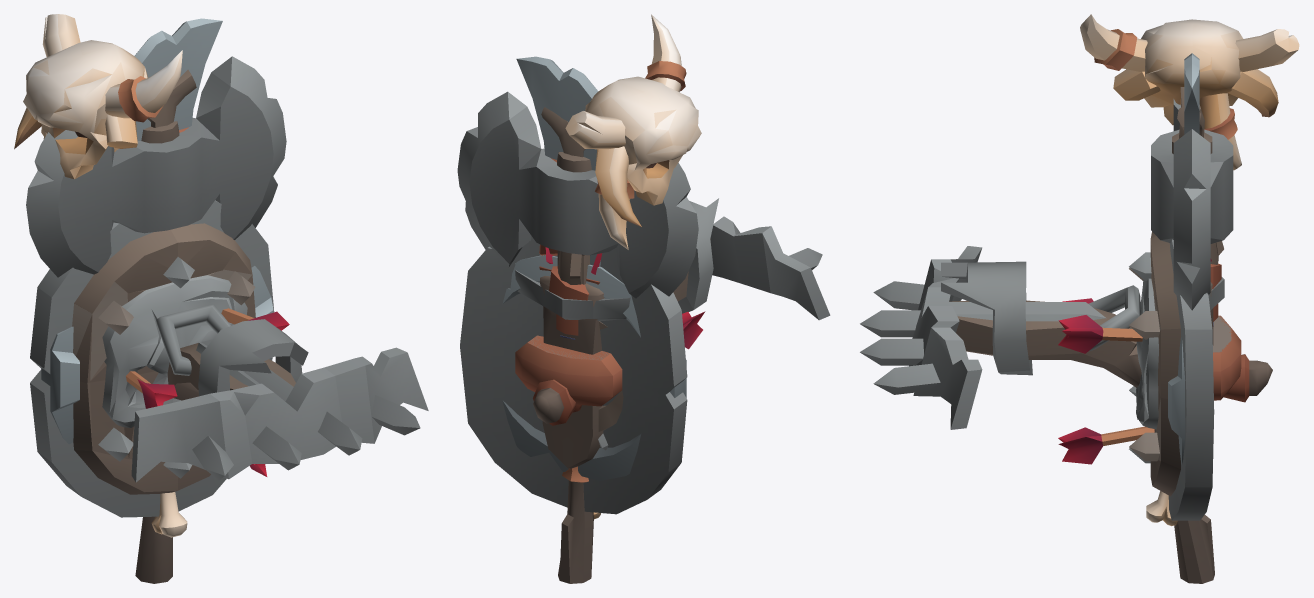
File: Skeleton_Gear.glb
3 views of the same model, side by side, from view 1: azimuth 30°, elevation 25°; view 2: azimuth 150°, elevation 25°; view 3: azimuth 270°, elevation 25° (orthographic). The views are drawn at different scales.
Parts seen in each view (by area): view 1: Skeleton_Crossbow, Skeleton_Axe, Skeleton_Shield_Large_A, Skeleton_Staff, Skeleton_Shield_Large_B, Skeleton_Blade, Skeleton_Shield_Small_A, Skeleton_Shield_Small_B; view 2: Skeleton_Shield_Large_A, Skeleton_Axe, Skeleton_Staff, Skeleton_Shield_Large_B, Skeleton_Crossbow, Skeleton_Blade, Skeleton_Shield_Small_A, Skeleton_Quiver, Skeleton_Shield_Small_B; view 3: Skeleton_Crossbow, Skeleton_Staff, Skeleton_Shield_Large_A, Skeleton_Axe, Skeleton_Shield_Large_B, Skeleton_Shield_Small_B, Skeleton_Blade, Skeleton_Shield_Small_A.
Boxes of the visible parts, x1,y1,x2,y2 form: Skeleton_Crossbow: [131, 304, 428, 482]; Skeleton_Axe: [26, 56, 286, 277]; Skeleton_Shield_Large_A: [30, 200, 273, 517]; Skeleton_Staff: [14, 14, 196, 583]; Skeleton_Shield_Large_B: [30, 208, 274, 517]; Skeleton_Blade: [134, 18, 222, 140]; Skeleton_Shield_Small_A: [41, 266, 273, 444]; Skeleton_Shield_Small_B: [126, 308, 289, 476]; Skeleton_Shield_Large_A: [460, 237, 687, 514]; Skeleton_Axe: [457, 91, 698, 335]; Skeleton_Staff: [541, 14, 701, 583]; Skeleton_Shield_Large_B: [461, 236, 687, 507]; Skeleton_Crossbow: [533, 198, 830, 425]; Skeleton_Blade: [515, 56, 630, 450]; Skeleton_Shield_Small_A: [502, 255, 686, 480]; Skeleton_Quiver: [540, 247, 604, 468]; Skeleton_Shield_Small_B: [682, 311, 705, 349]; Skeleton_Crossbow: [860, 246, 1272, 429]; Skeleton_Staff: [1080, 14, 1299, 583]; Skeleton_Shield_Large_A: [1136, 236, 1241, 520]; Skeleton_Axe: [1151, 99, 1233, 321]; Skeleton_Shield_Large_B: [1129, 231, 1231, 481]; Skeleton_Shield_Small_B: [1058, 298, 1154, 464]; Skeleton_Blade: [1184, 53, 1224, 310]; Skeleton_Shield_Small_A: [1168, 337, 1185, 464].
Size of the model in its own units: 1.11 by 2.1 by 1.51.
Materials: 1 (1 with a texture image).
